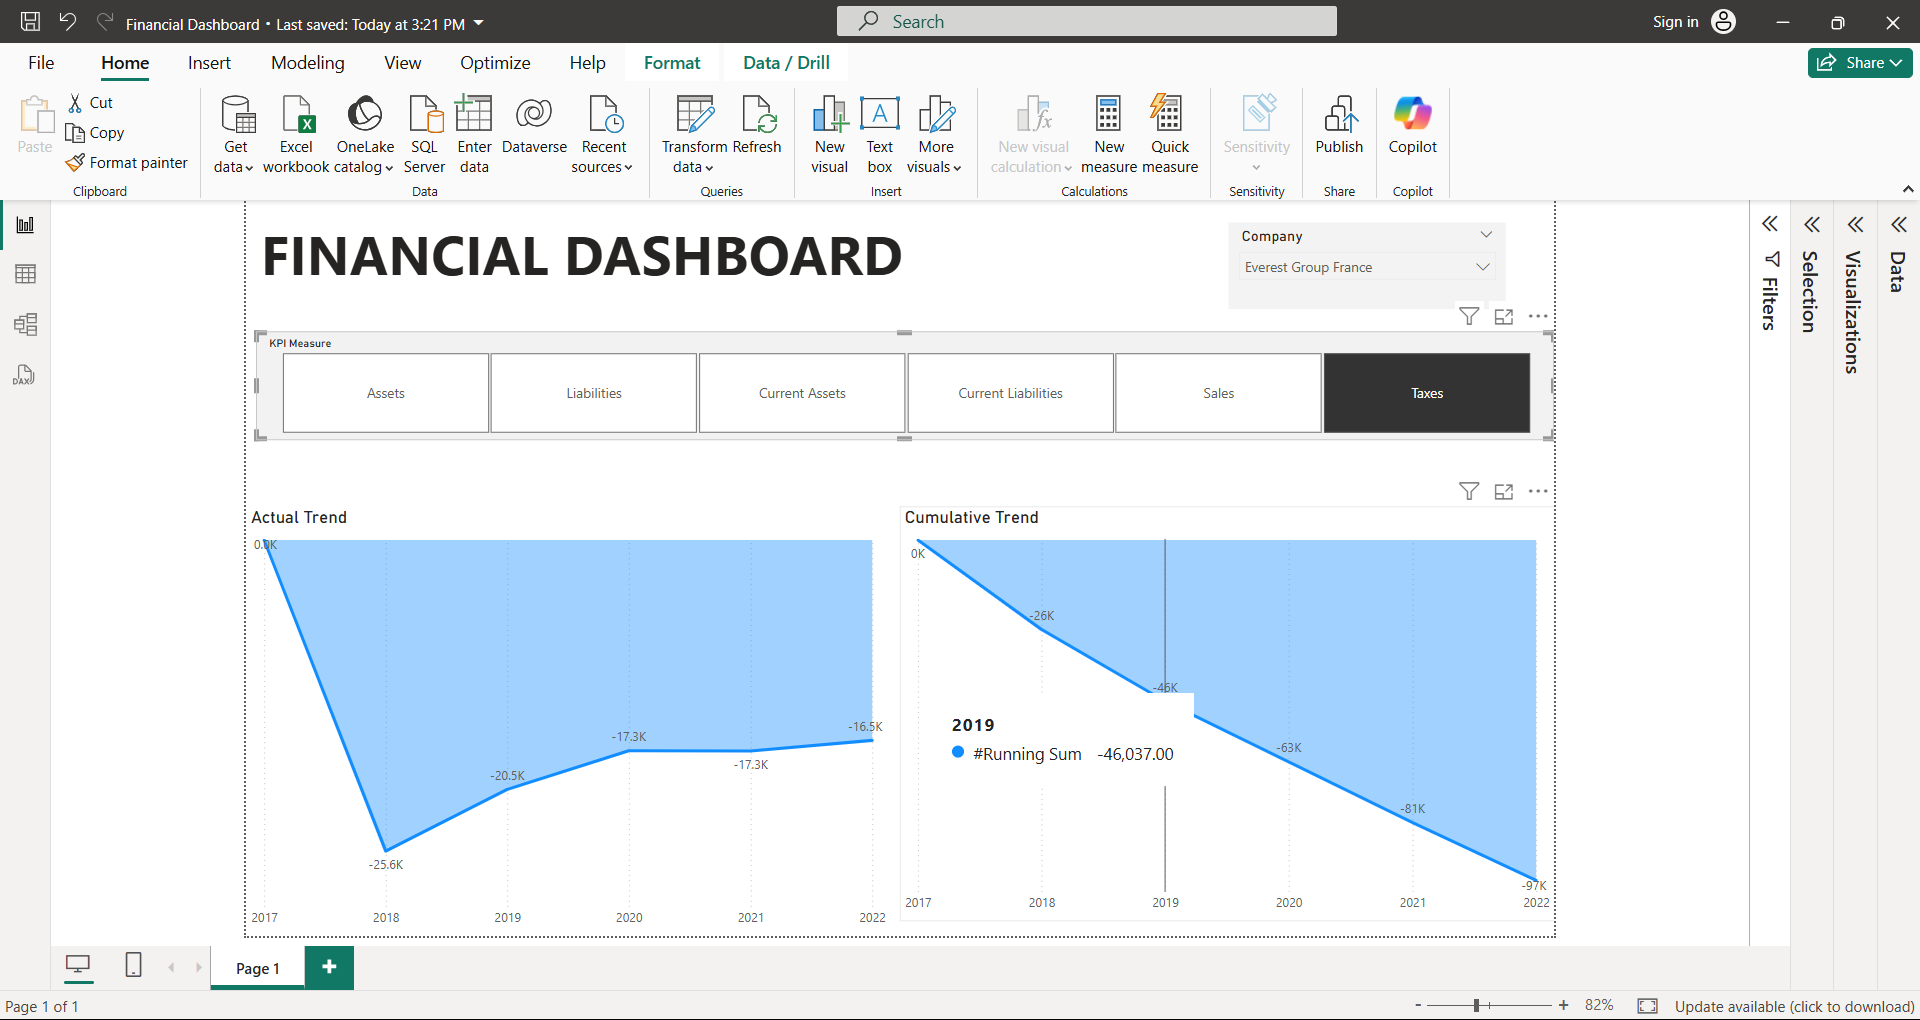

The page's visual inventory and layout, read from the dashboard file:
{"tool":"powerbi","page":{"name":"Page 1","canvas":[1280,720],"ordinal":0},"visuals":[{"type":"textbox","box":[9.6,11,952.3,96.1],"z":0},{"type":"slicer","fields":{"Values":["Financials.Company"]},"box":[961.4,22.3,271.3,84.9],"z":1000},{"type":"slicer","fields":{"Values":["KPI Measure.KPI Measure"]},"box":[9.8,128.4,1270.5,106.4],"z":2000},{"type":"areaChart","title":"Actual Trend","fields":{"Category":["Financials.Month.Variation.Date Hierarchy.Year"],"Y":["Financials.#Selected Measure"]},"box":[0,299.6,631,420.7],"z":3000},{"type":"areaChart","title":"Cumulative Trend","fields":{"Category":["Financials.Month.Variation.Date Hierarchy.Year"],"Y":["Financials.#Running Sum"]},"box":[639.5,299.6,640.8,406],"z":3001}]}

Visuals, with their boxes on the page's 1280x720 design canvas (x1, y1, x2, y2). These are canvas units, not pixel positions in the 1920x1020 screenshot, which may show the page scaled, cropped or inside an application window:
textbox: x1=10 y1=11 x2=962 y2=107
slicer - Financials.Company: x1=961 y1=22 x2=1233 y2=107
slicer - KPI Measure.KPI Measure: x1=10 y1=128 x2=1280 y2=235
"Actual Trend" areaChart: x1=0 y1=300 x2=631 y2=720
"Cumulative Trend" areaChart: x1=640 y1=300 x2=1280 y2=706
